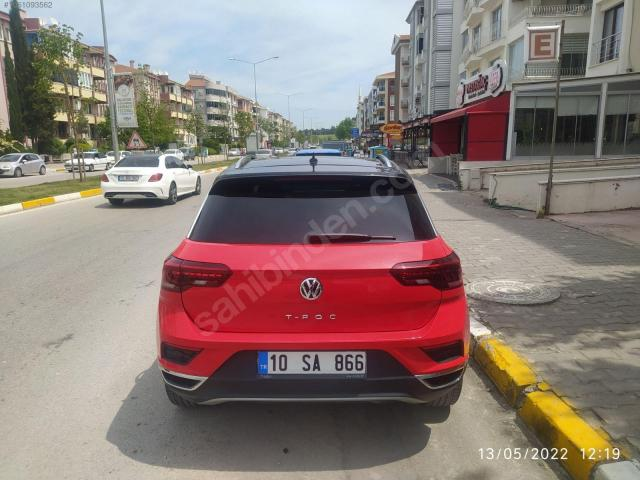plaka: (258, 351, 366, 378), (116, 175, 140, 181)
